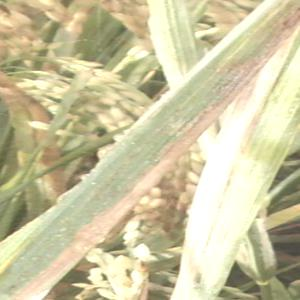2 BacterialBlight: (1, 166, 115, 300), (224, 63, 289, 229)
